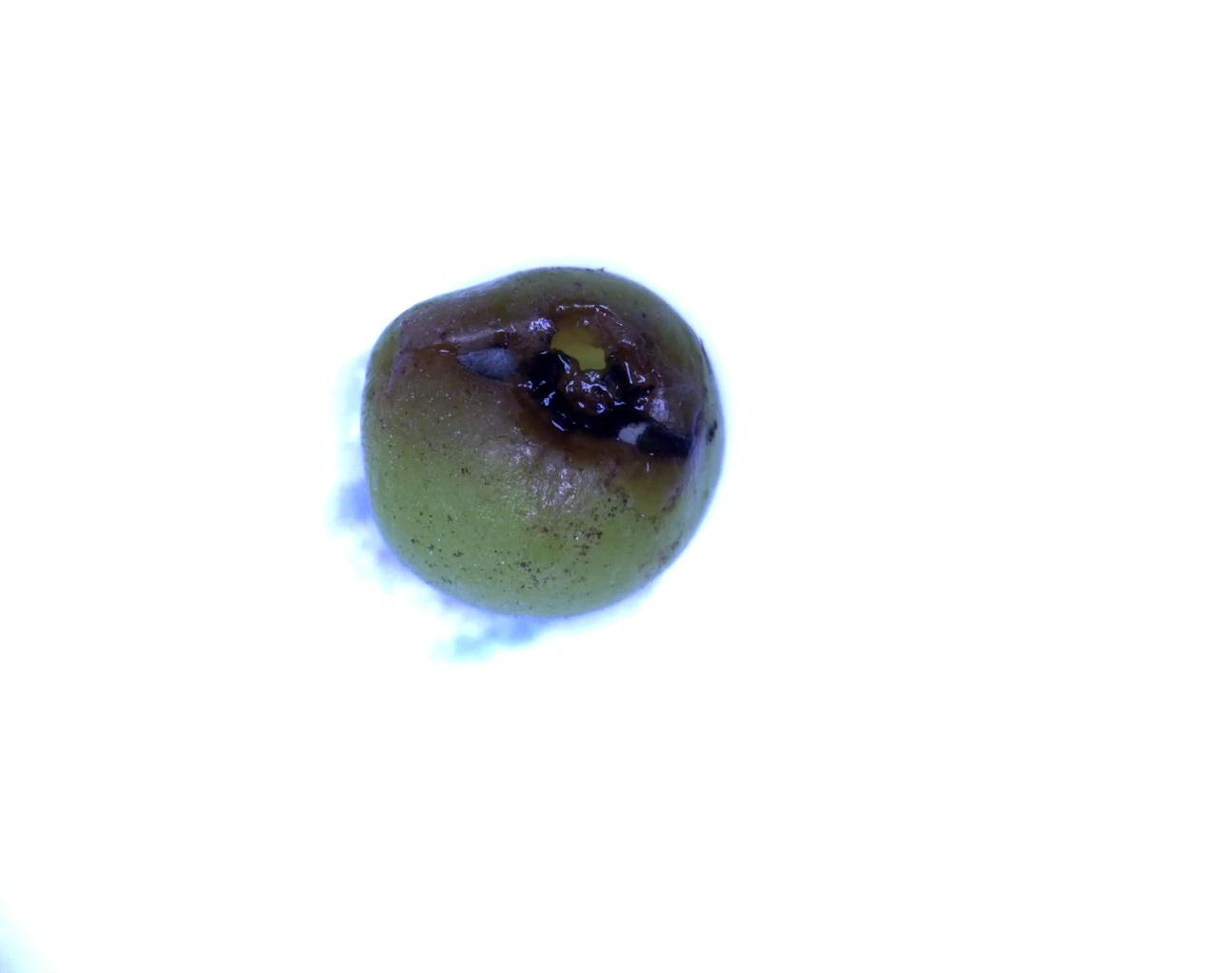Grape Rotten: (355, 262, 706, 618)
